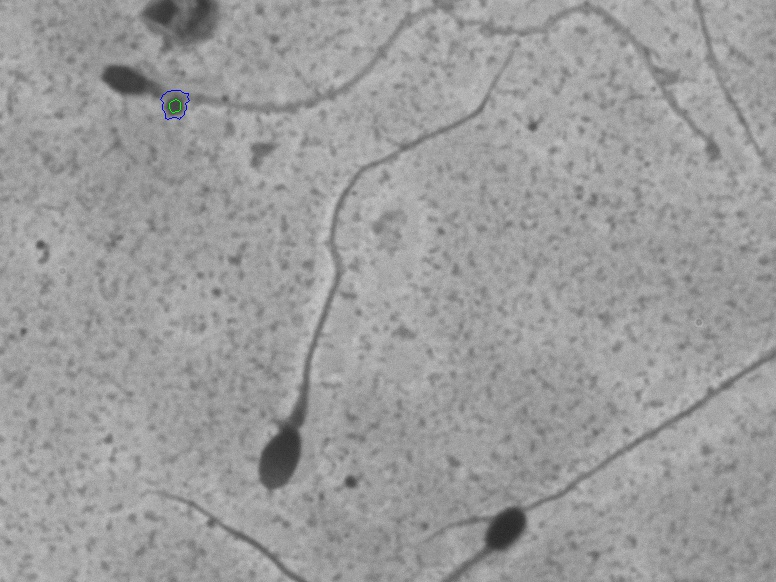Abnormal: (77, 26, 366, 139)
Normal: (231, 40, 535, 515)
